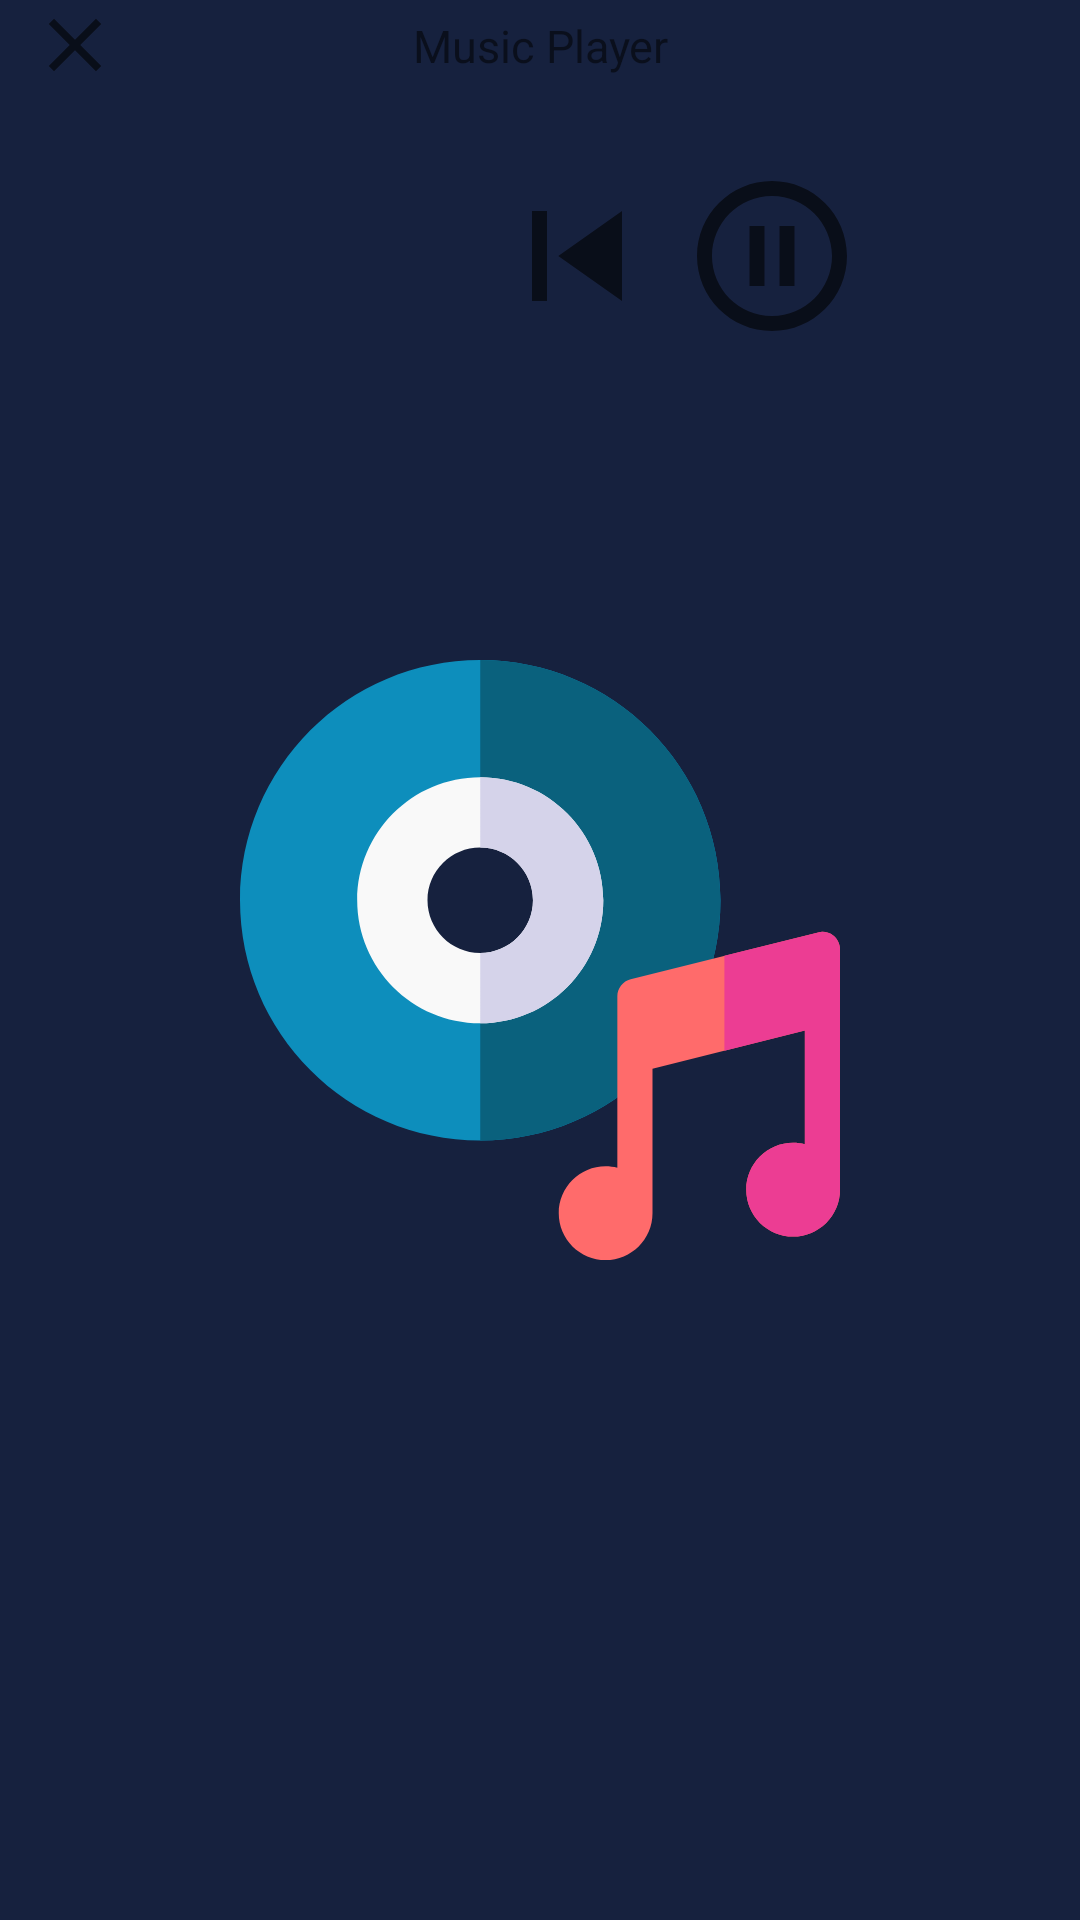

Named icons in this screenshot (1080px x 1920px) and their bounding boxes, (x1, y1, x2, y2):
close: (49, 19, 101, 71)
pause circle: (697, 181, 847, 331)
skip previous: (532, 211, 622, 301)
